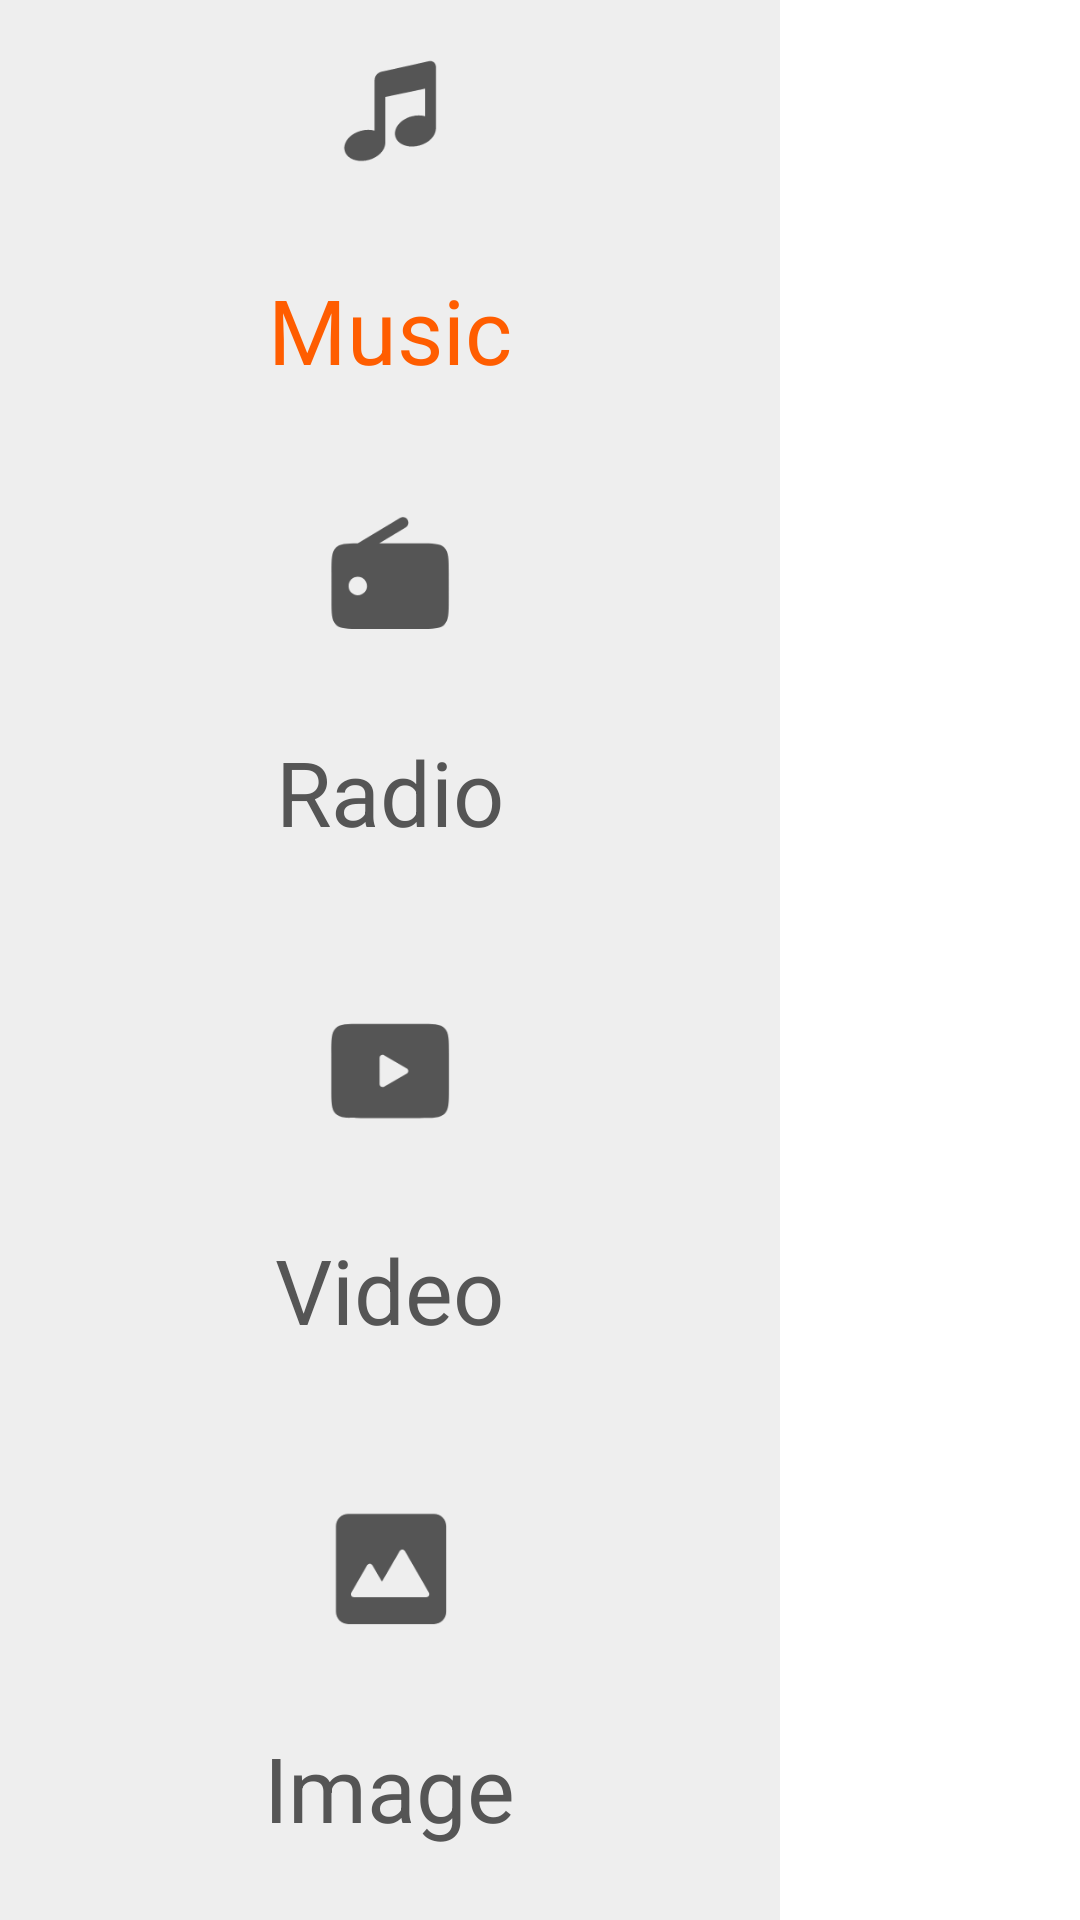

Icons on this 1080px x 1920px Android screen, each with its box as [left=x1, top=y1, right=x2, bottom=y2]:
media: [left=344, top=61, right=436, bottom=161]
